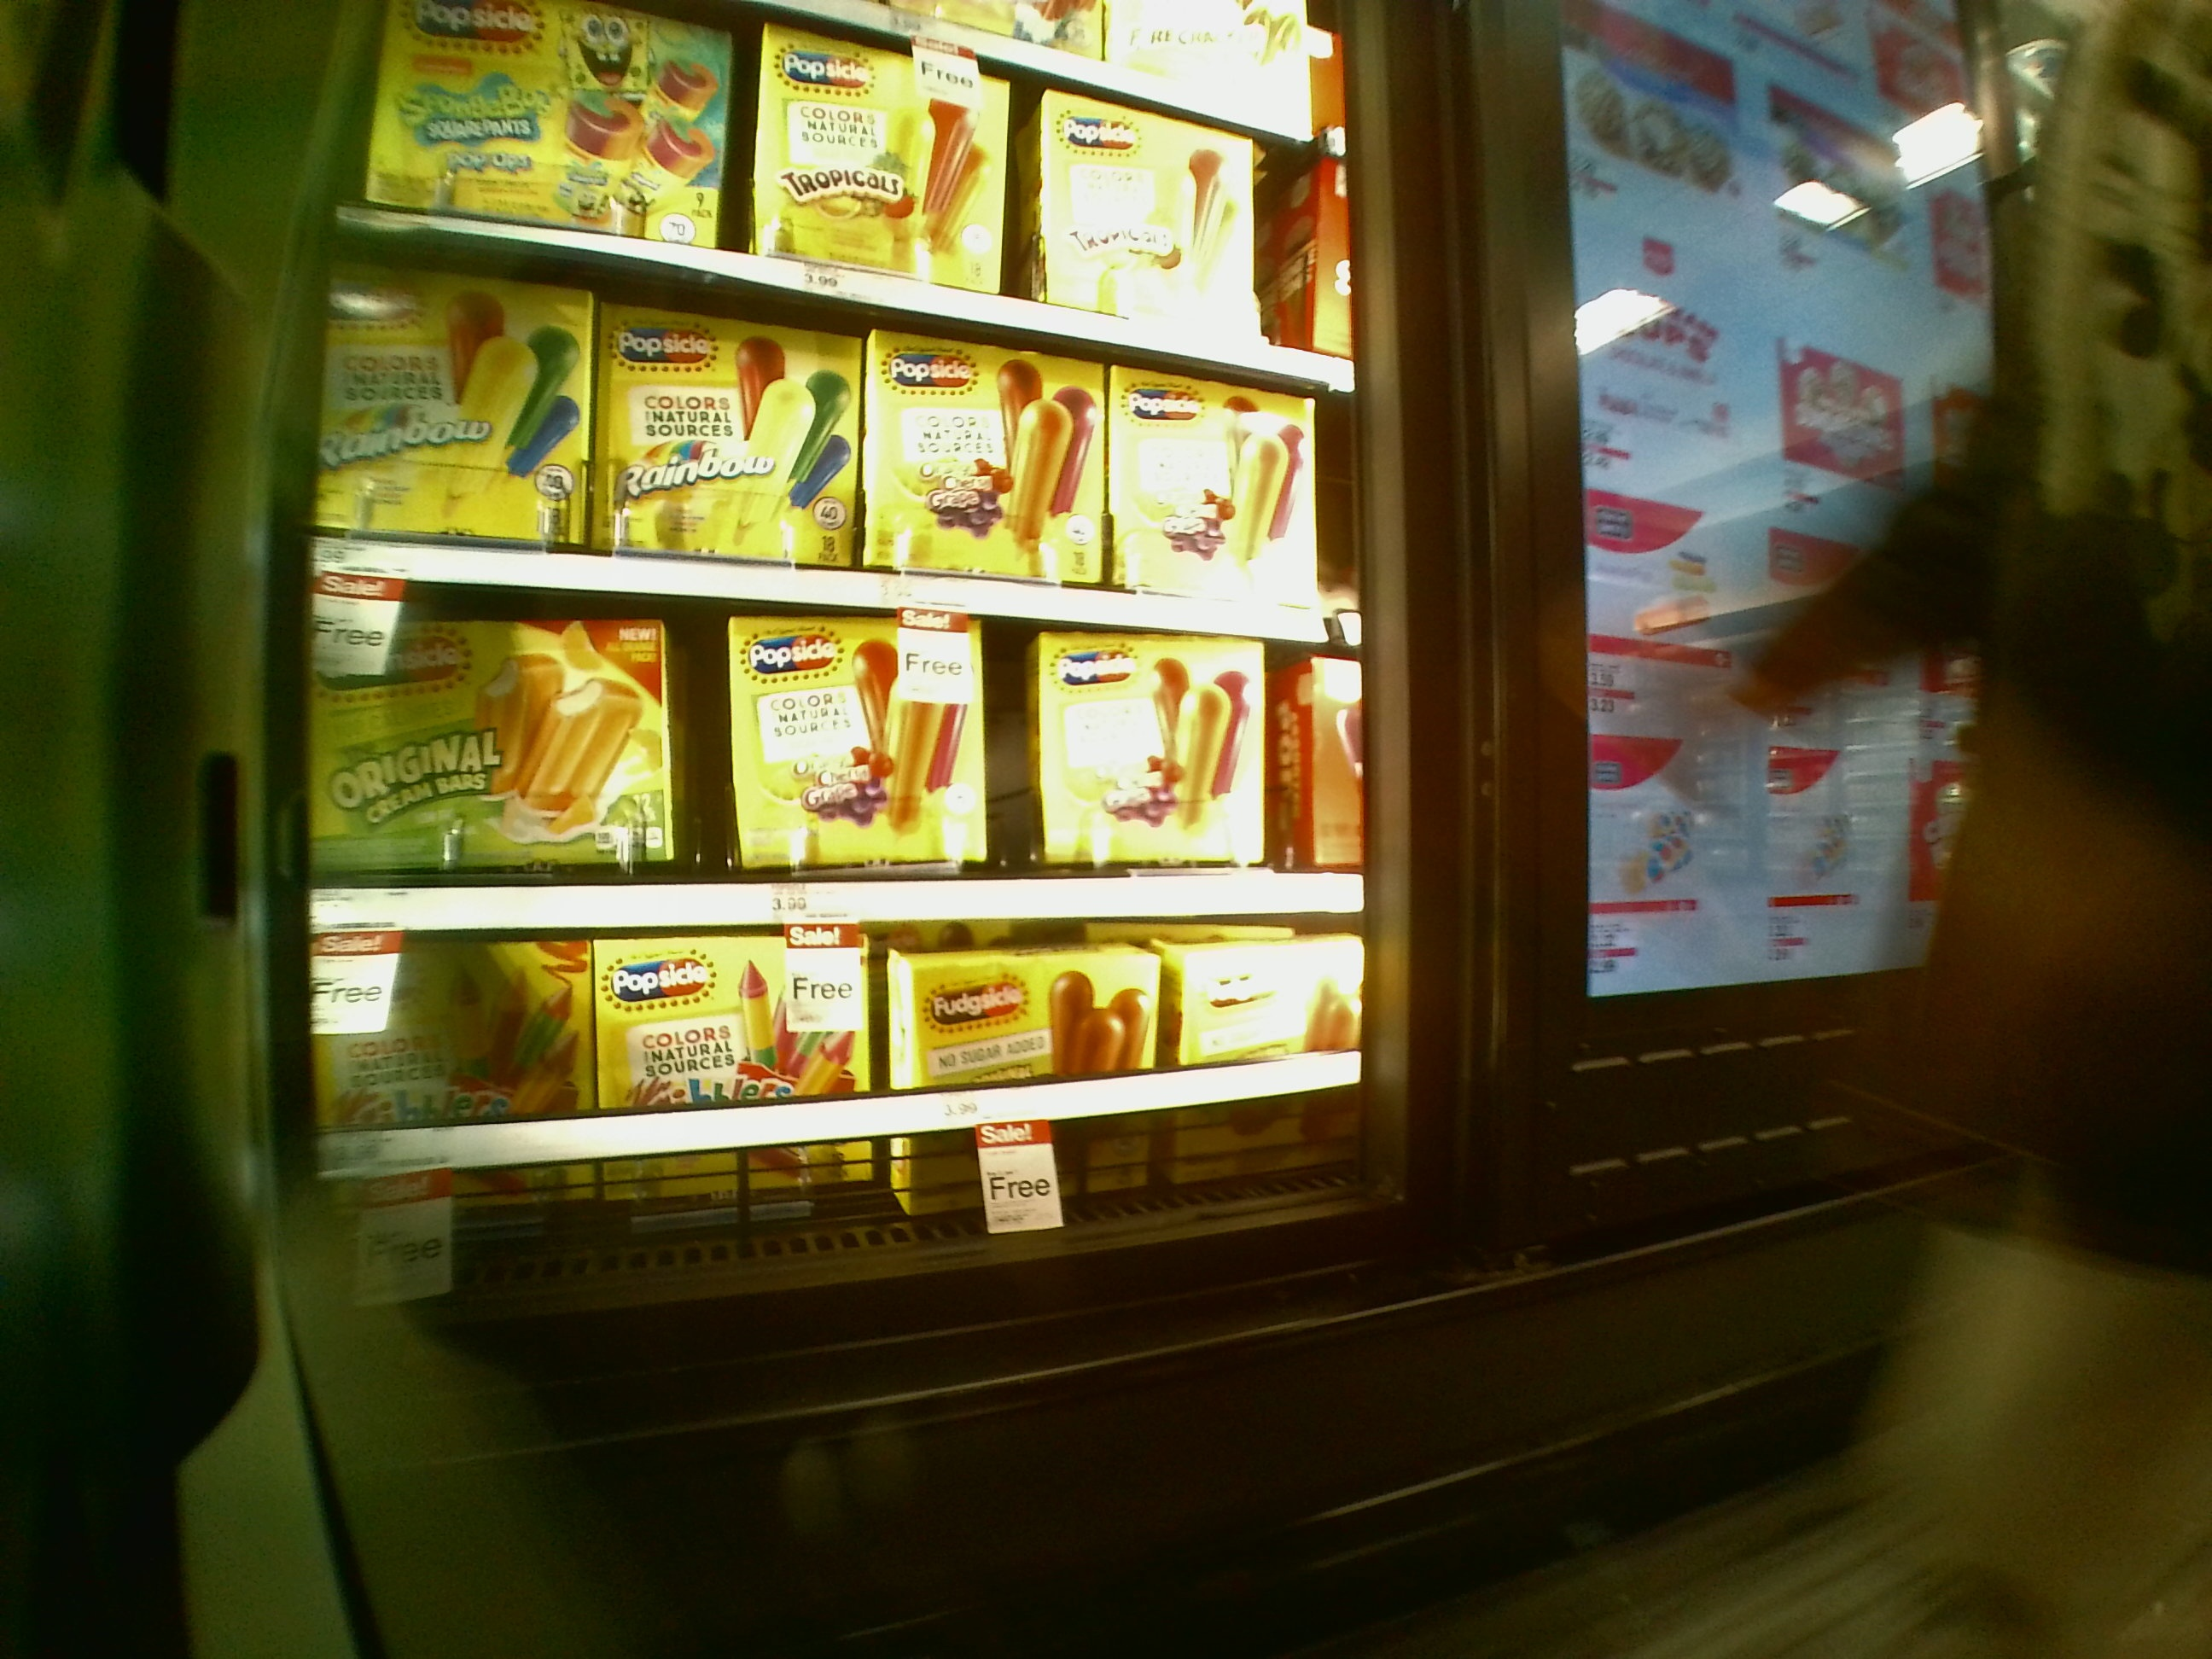shelf: (308, 268, 1355, 610), (319, 577, 1352, 915), (317, 910, 1359, 1234)
